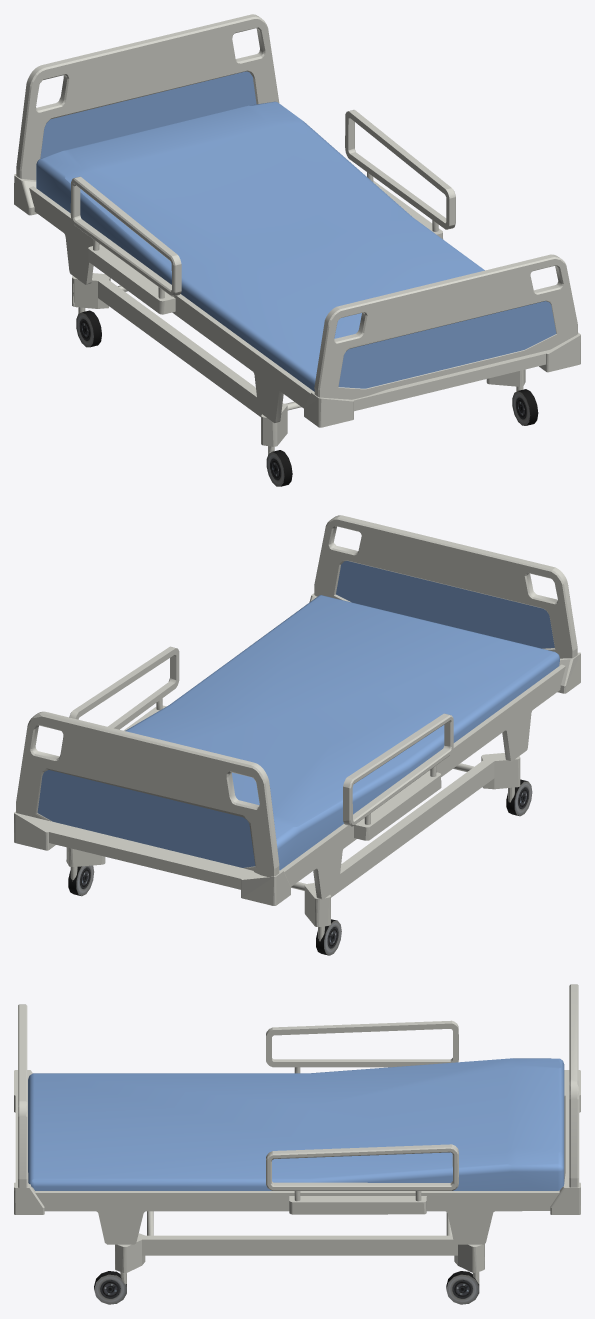
Rendered from Bed.FBX.
3 views of the same model, one above another, from view 1: azimuth 30°, elevation 25°; view 2: azimuth 150°, elevation 25°; view 3: azimuth 270°, elevation 25° (orthographic). The views are drawn at different scales.
Visible parts, largest first — view 1: Bed; view 2: Bed; view 3: Bed.
Boxes of the visible parts, x1=… form: Bed: x1=14, y1=14, x2=580, y2=486; Bed: x1=14, y1=515, x2=580, y2=955; Bed: x1=14, y1=984, x2=580, y2=1304.
Bounding box in the file's own units: 1010 × 1892 × 784.
Materials: 1 (1 with a texture image).
